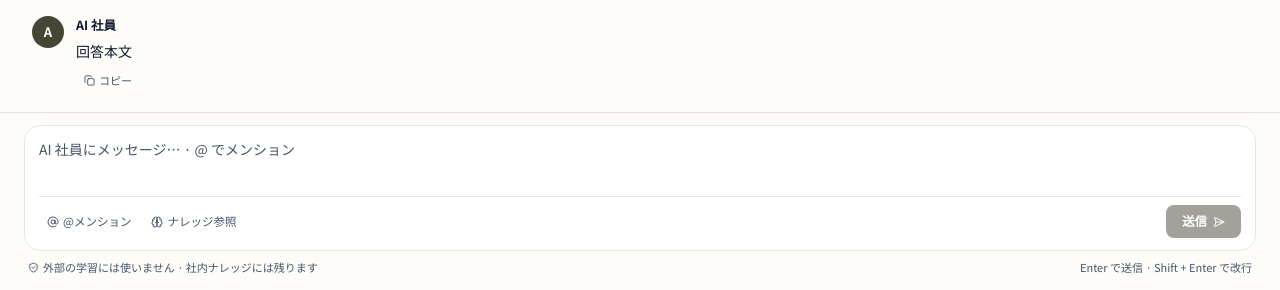
Test: ChatPanel assistant アクション行 (GAP-118 coverage) › copies the assistant message content to clipboard
Click the button with aria-label "メッセージをコピー" at (108,81), box [76, 69, 140, 92]
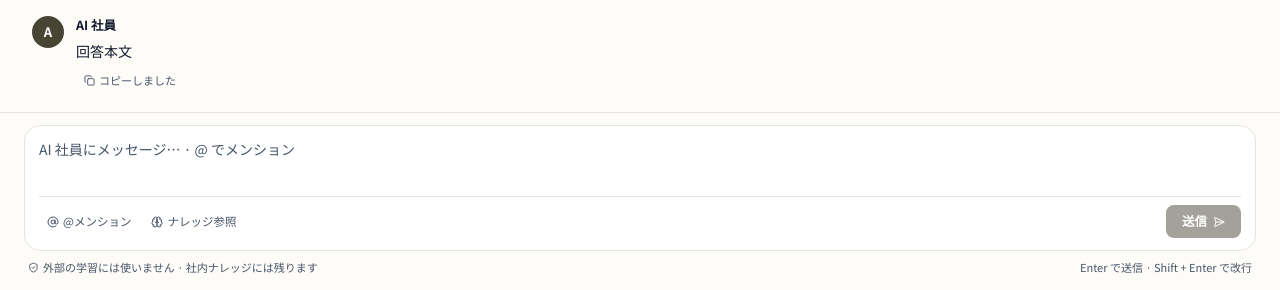
Now the button "コピーしました" is shown, box [76, 69, 184, 92]
